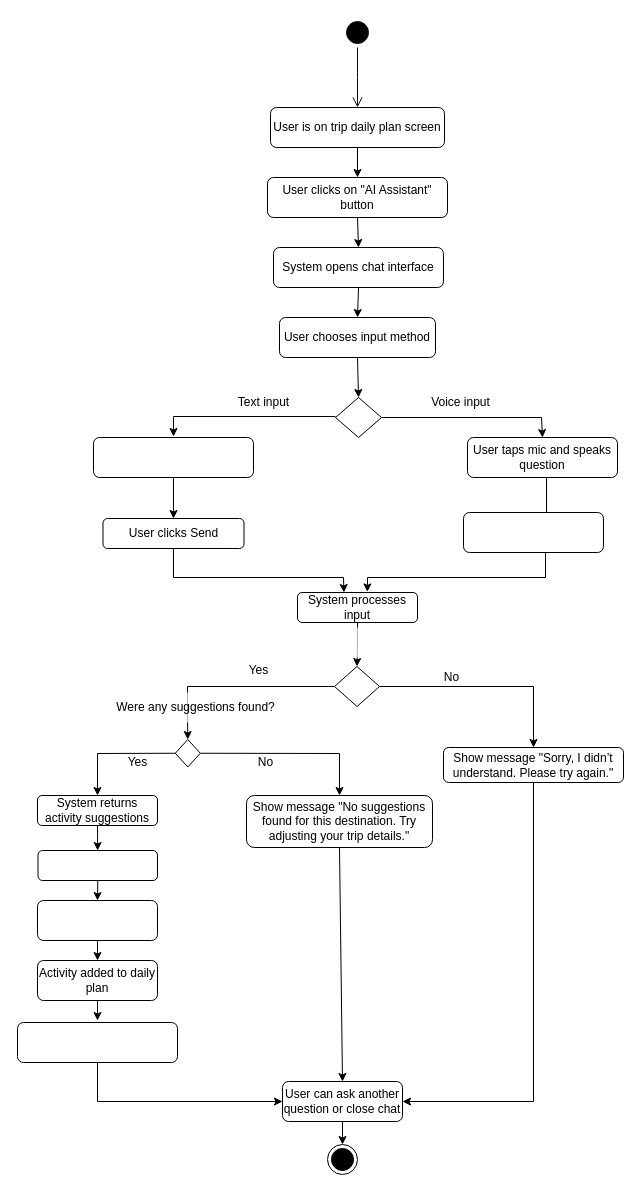
Image size: 641x1192. Some labels were removed from this diagram. Each missing label, with the centre of its shape:
Show message "Activity added successfully to your plan": (x=97, y=1042)
System transcribes voice to text: (x=533, y=532)
User clicks "Add to plan": (x=97, y=865)
User selects day: (x=97, y=920)
User types question: (x=173, y=457)
Valid input?: (x=357, y=642)
